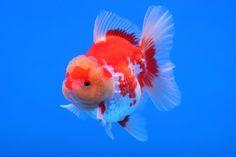goldfish: (50, 23, 189, 131)
